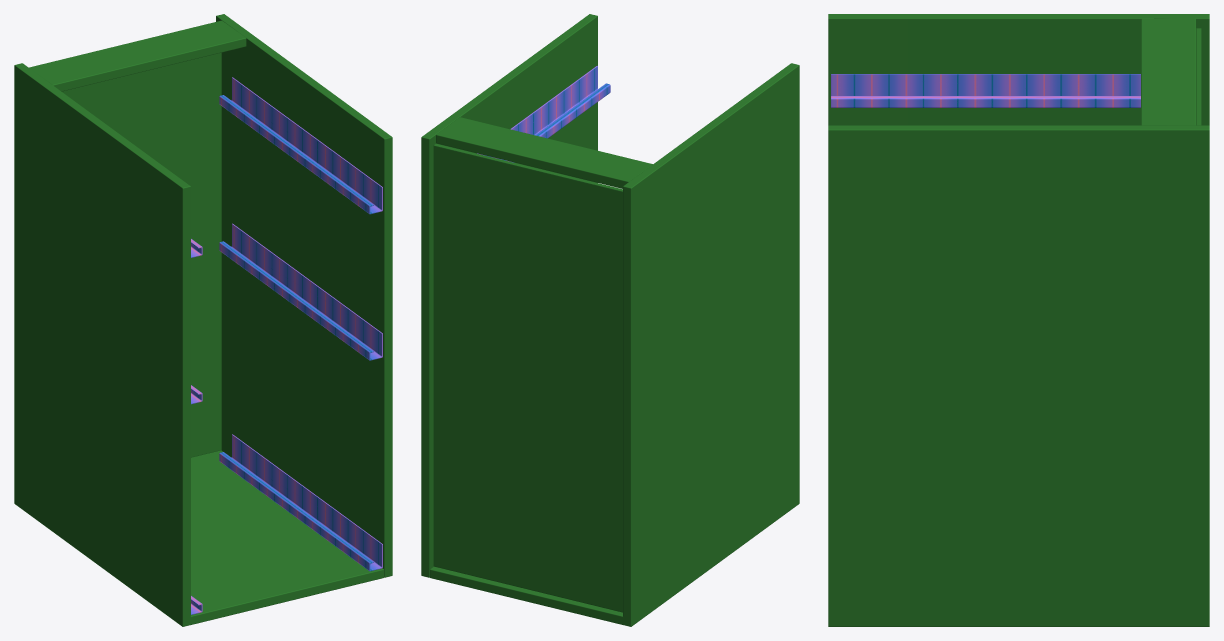
File: SM_Kitchen_06_Base.fbx
The picture shows the model from 3 angles, left to right: view 1: azimuth 30°, elevation 25°; view 2: azimuth 150°, elevation 25°; view 3: azimuth 270°, elevation 25°; orthographic projection. The views are drawn at different scales.
Parts seen in each view (by area): view 1: SM_Kitchen_06_Base; view 2: SM_Kitchen_06_Base; view 3: SM_Kitchen_06_Base.
Boxes of the visible parts, bbox=[...] form: SM_Kitchen_06_Base: bbox=[14, 14, 392, 626]; SM_Kitchen_06_Base: bbox=[421, 14, 799, 626]; SM_Kitchen_06_Base: bbox=[828, 14, 1209, 626].
Size of the model in its own units: 39.96 by 79.8 by 55.49.
Materials: 2 (1 with a texture image).
